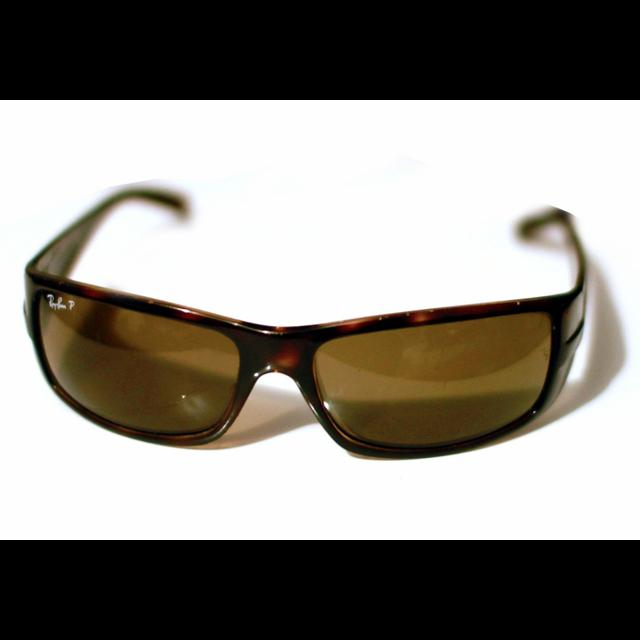Sunglasses: (20, 227, 598, 457)
